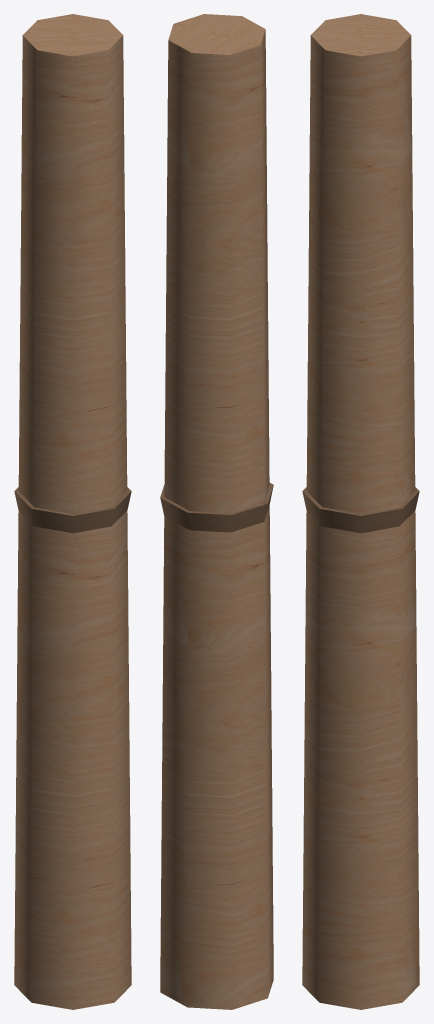
The model's file is Fence_Post-v1.0.0.glb.
The picture shows the model from 3 angles, left to right: view 1: azimuth 90°, elevation 25°; view 2: azimuth 150°, elevation 25°; view 3: azimuth 270°, elevation 25°; orthographic projection.
Visible parts, largest first — view 1: Geo_Post, Geo_Cap; view 2: Geo_Post, Geo_Cap; view 3: Geo_Post, Geo_Cap.
Boxes of the visible parts, bbox=[...] form: Geo_Post: bbox=[14, 14, 131, 1009]; Geo_Cap: bbox=[14, 487, 131, 533]; Geo_Post: bbox=[160, 14, 273, 1009]; Geo_Cap: bbox=[160, 483, 273, 532]; Geo_Post: bbox=[302, 14, 419, 1009]; Geo_Cap: bbox=[302, 487, 419, 533].
Bounding box in the file's own units: 9175 × 81918 × 9175.
2 materials, 2 textured.
